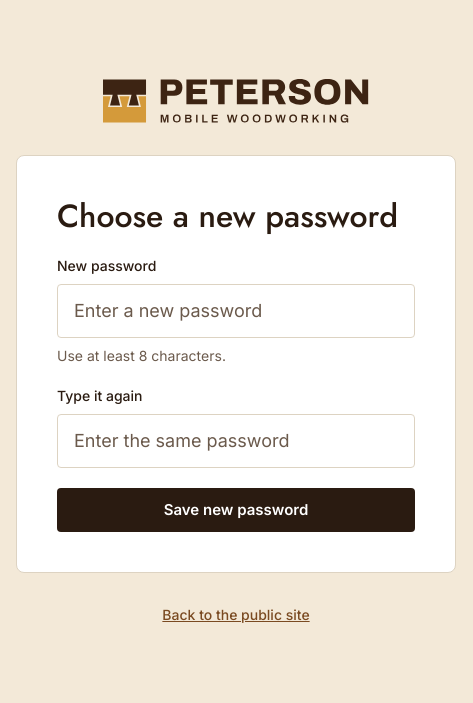
Test case: ResetPasswordPage › shows the unreachable banner and keeps the form
The image size is (473, 703).
Type "new-password-123" into the password field labelled "New password".
click(236, 311); type("new-password-123")  # box [57,284,415,338]
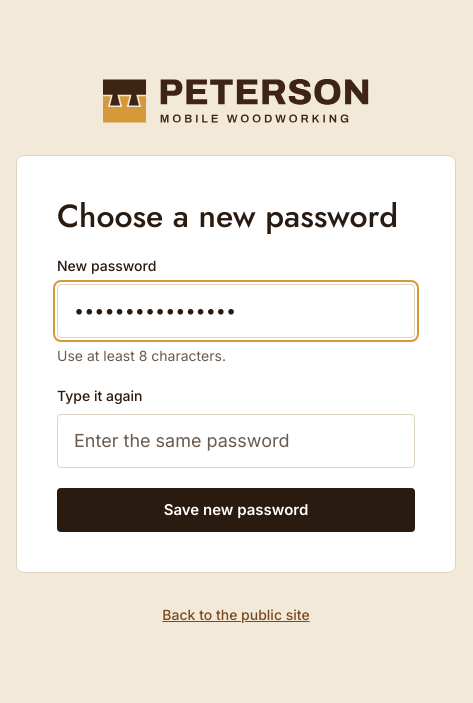
Type "new-password-123" into the password field labelled "Type it again".
click(236, 441); type("new-password-123")  # box [57,414,415,468]
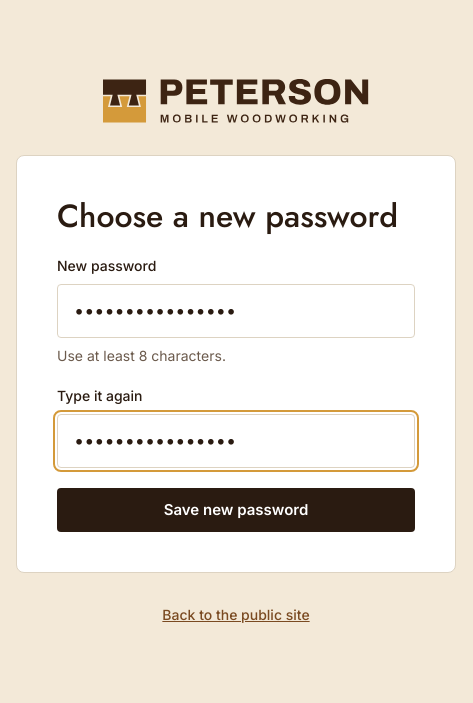
Click the button "Save new password".
click(236, 510)  # box [57,488,415,532]
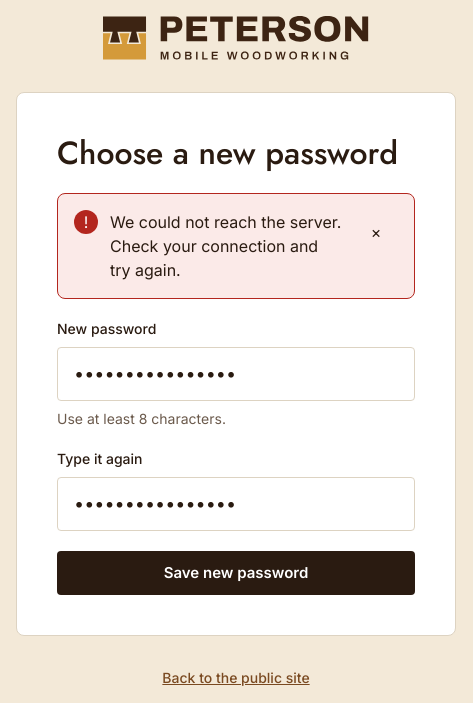
Check: the button "Save new password" is enabled, box [57,551,415,595]
Check: the message shows "We could not reach the server. Check your connection and try again.", box [110,212,342,280]
